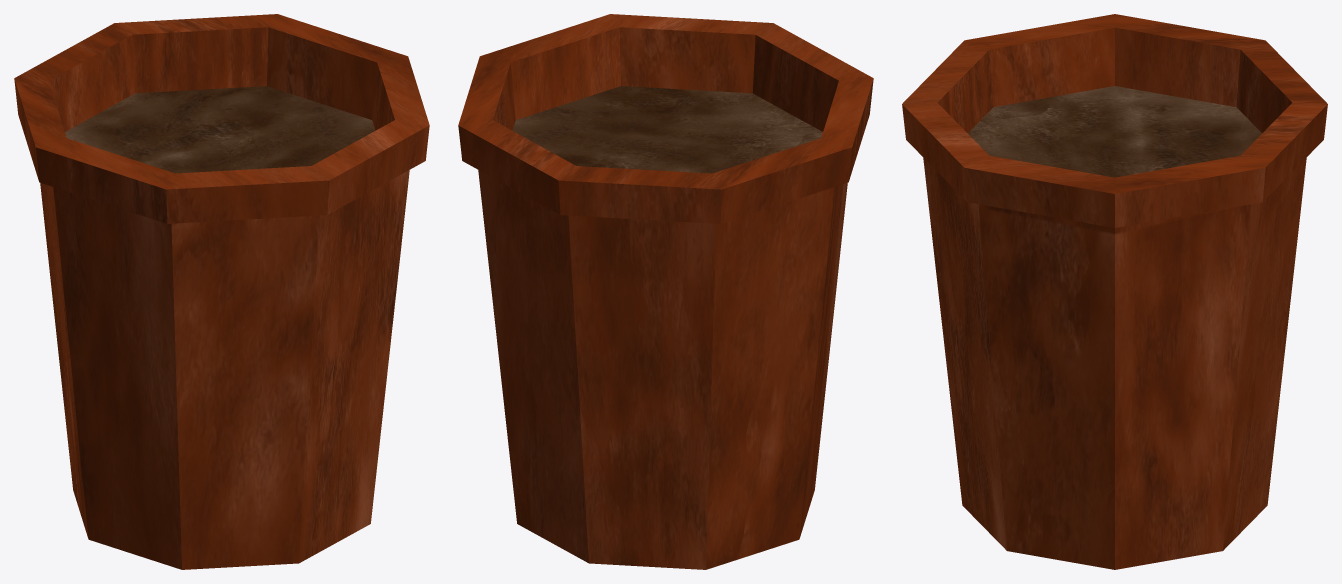
Rendered from PlantPot_Artifact.fbx.
3 renders of one model, left to right at view 1: azimuth 30°, elevation 25°; view 2: azimuth 150°, elevation 25°; view 3: azimuth 270°, elevation 25°, orthographic.
Parts seen in each view (by area): view 1: Circle; view 2: Circle; view 3: Circle.
Part boxes in pixels (bbox=[...]): Circle: bbox=[14, 14, 429, 569]; Circle: bbox=[458, 14, 873, 569]; Circle: bbox=[902, 14, 1327, 569].
Size of the model in its own units: 47 by 49.04 by 47.
